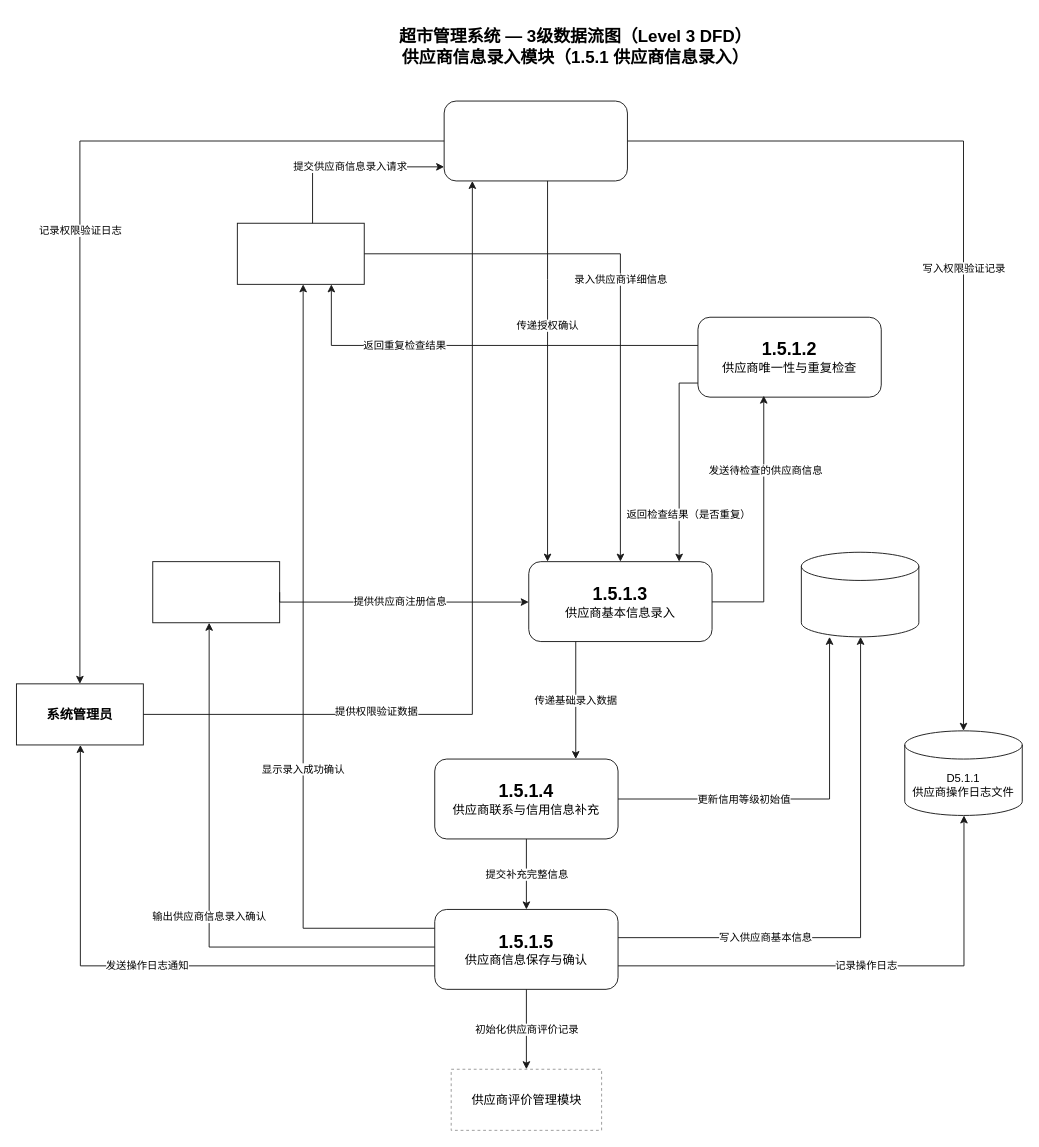
The diagram is 1039 pixels wide and 1147 high, and some of its shapes have lost their labels. Each missing label, with the box of its shape:
1.5.1.1 操作权限验证: (443, 100, 627, 181)
D5.1 供应商基本信息文件: (800, 551, 919, 637)
供应商: (152, 561, 280, 623)
员工: (236, 222, 364, 284)
